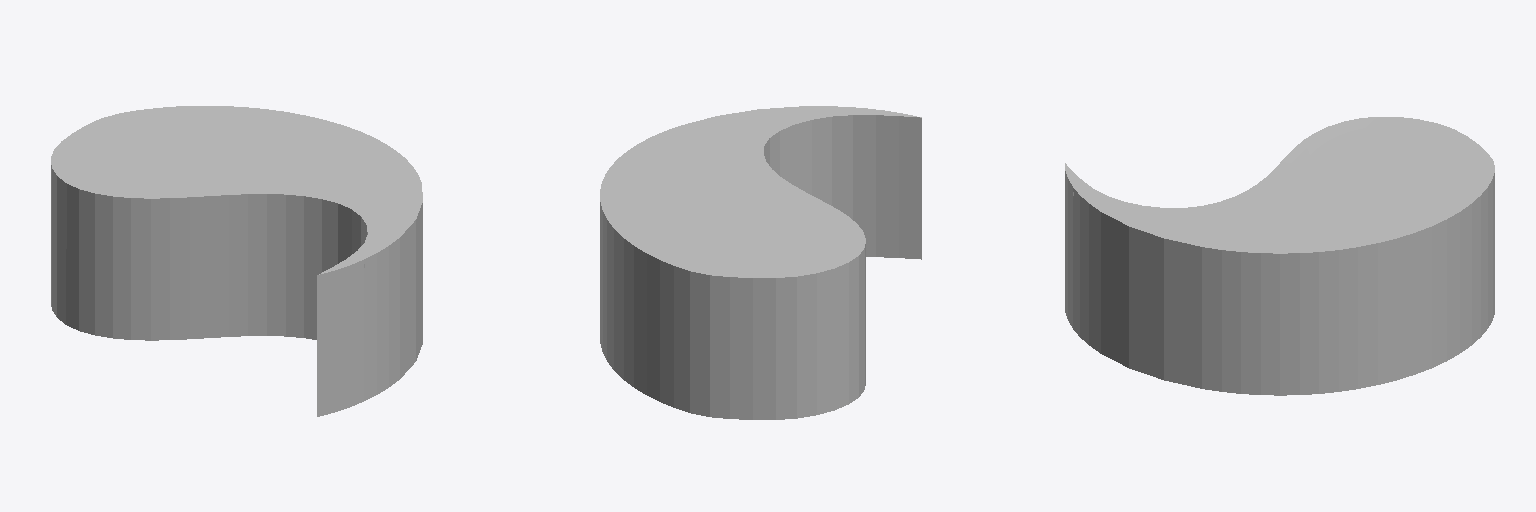
The model's file is yinin.obj.
3 views of the same model, side by side, from view 1: azimuth 30°, elevation 25°; view 2: azimuth 150°, elevation 25°; view 3: azimuth 270°, elevation 25° (orthographic).
Visible parts, largest first — view 1: yinin; view 2: yinin; view 3: yinin.
Part boxes in pixels (left/top/right/bottom): yinin: left=51, top=106, right=422, bottom=416; yinin: left=600, top=106, right=921, bottom=419; yinin: left=1065, top=117, right=1494, bottom=395.
Size of the model in its own units: 73.49 by 35.55 by 97.64.